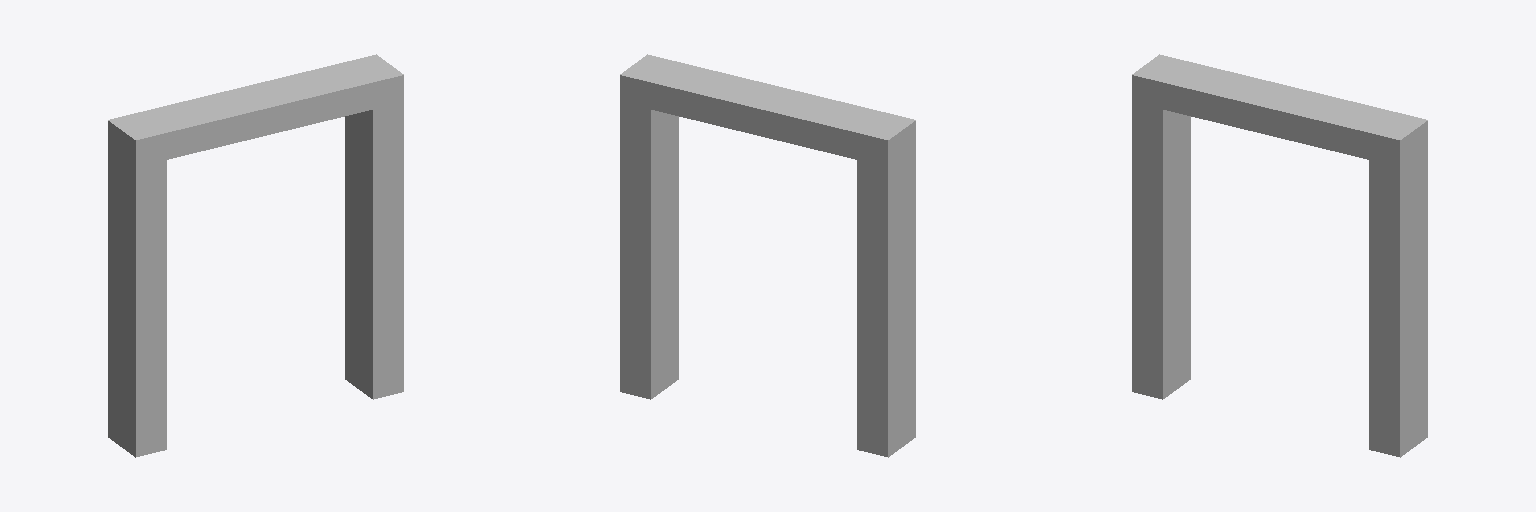
The model's file is doorway.obj.
The picture shows the model from 3 angles: view 1: azimuth 30°, elevation 25°; view 2: azimuth 150°, elevation 25°; view 3: azimuth 330°, elevation 25°; orthographic projection.
Size of the model in its own units: 4.77 by 5.38 by 0.8595.